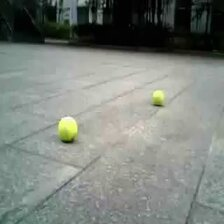tennis: (56, 116, 76, 141), (152, 90, 164, 105)
